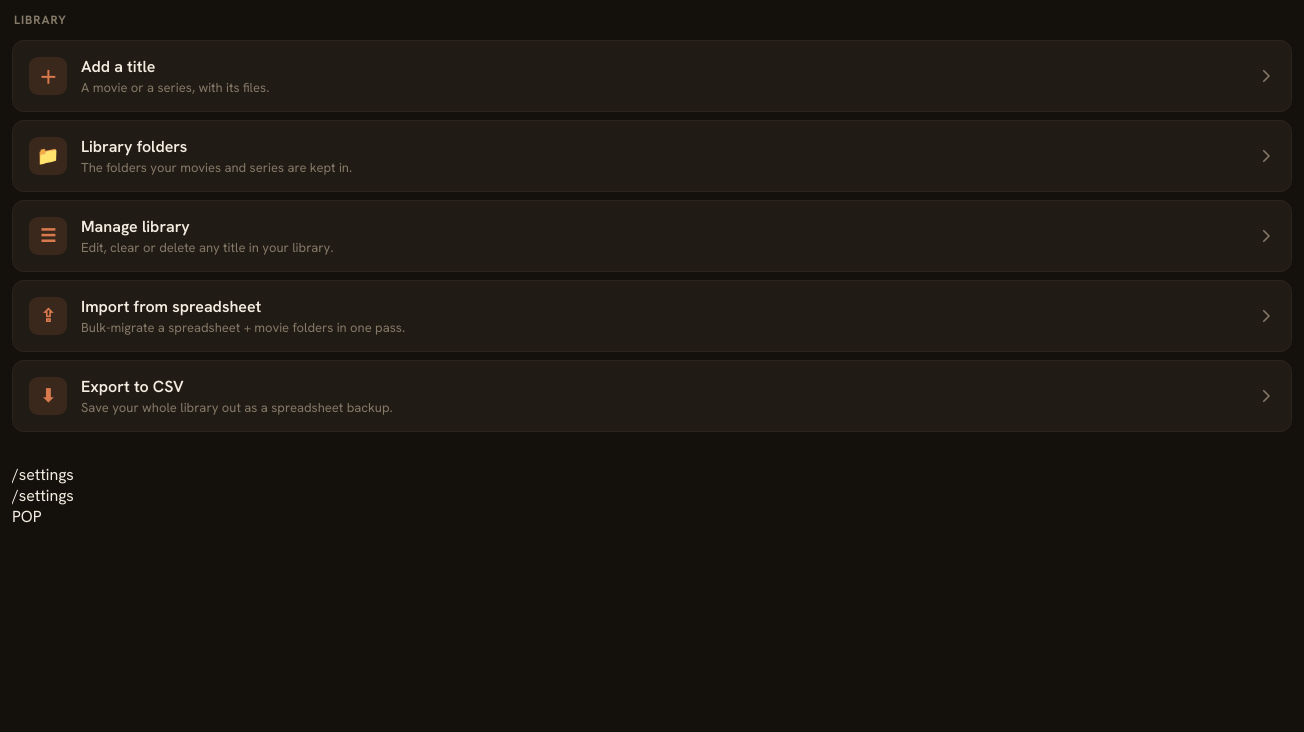
Test: LibrarySection › lands on the movie form from Add a title, on the movie kind
This screenshot has width=1304, height=732.
Click the button "＋ Add a title A movie or a series, with its files.".
click(48, 76)  # box [12,40,1292,112]
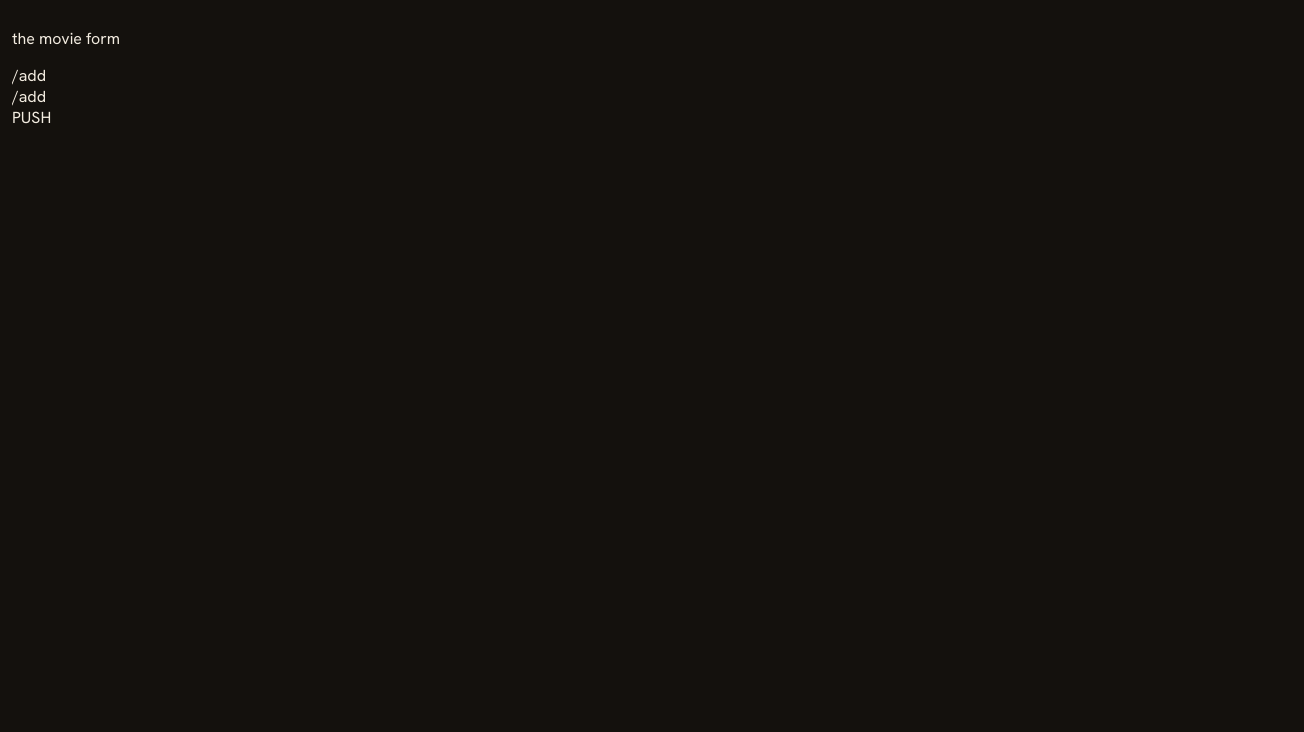
Check: the text with test id "pathname" reads "/add", box [12,65,46,86]
Check: the text "the movie form" is shown, box [12,28,120,49]
